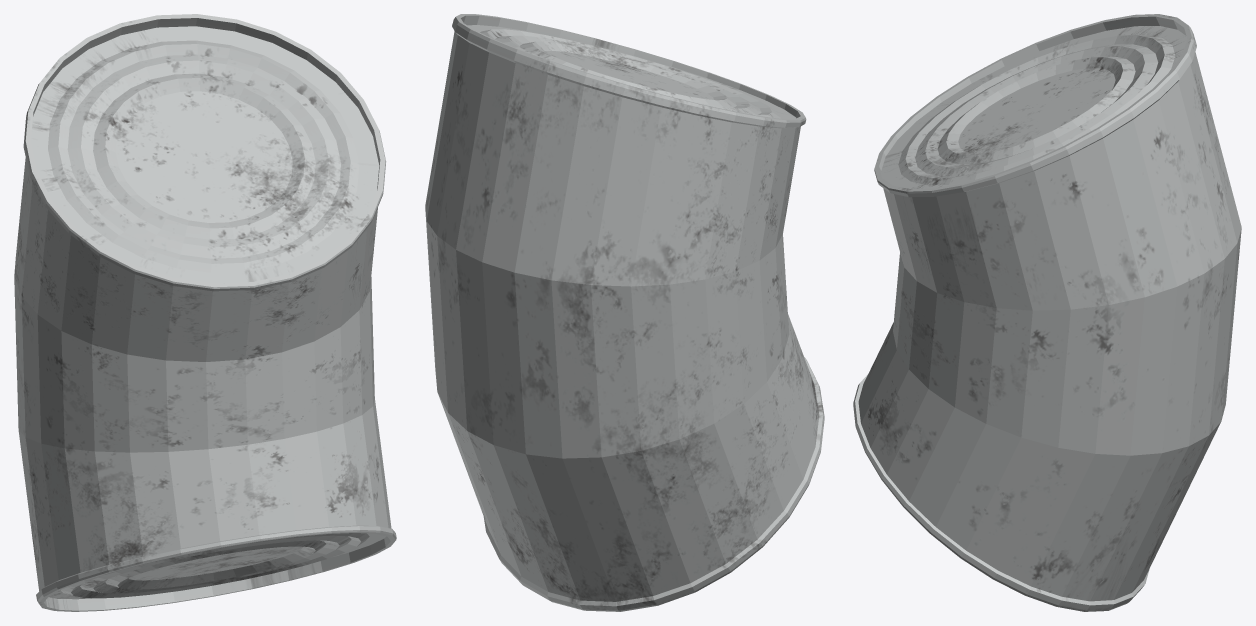
Rendered from bend_medium_1.obj.
3 views of the same model, side by side, from view 1: azimuth 30°, elevation 25°; view 2: azimuth 150°, elevation 25°; view 3: azimuth 270°, elevation 25° (orthographic). The views are drawn at different scales.
Visible parts, largest first — view 1: Cam_l__0; view 2: Cam_l__0; view 3: Cam_l__0.
Boxes of the visible parts, box(x1,y1,x2,y2) form: Cam_l__0: box(14, 14, 396, 611); Cam_l__0: box(425, 14, 824, 611); Cam_l__0: box(853, 14, 1241, 611).
Size of the model in its own units: 0.0959 by 0.1597 by 0.1036.
1 material, 1 textured.
